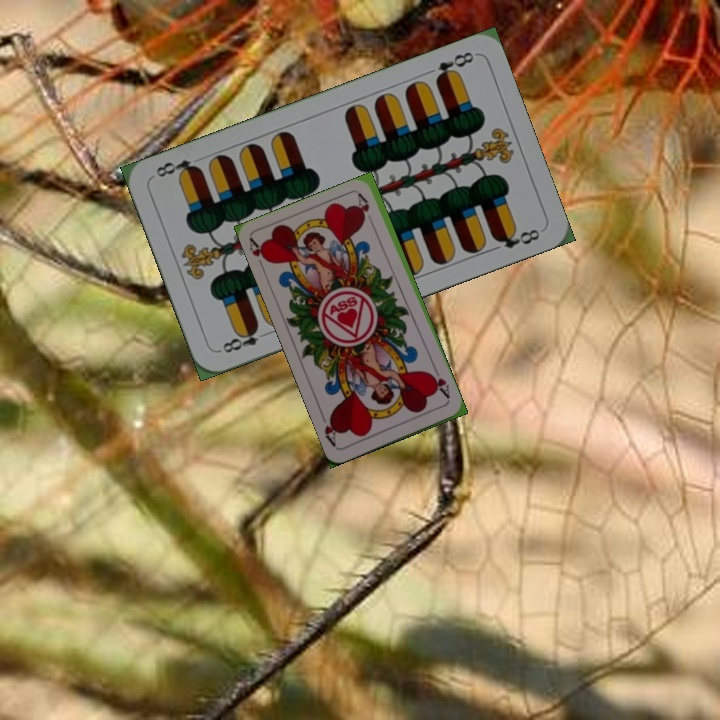E8: (215, 322, 273, 356), (431, 47, 477, 85)
HA: (245, 235, 272, 274), (426, 368, 453, 404)
